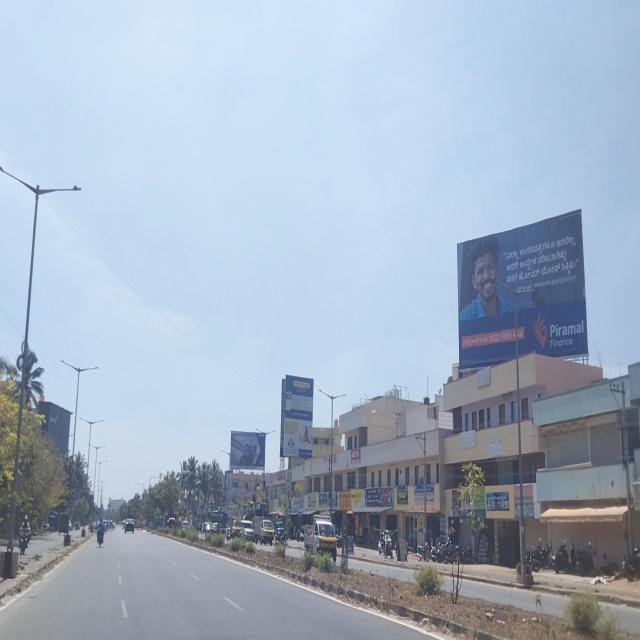bien_cam: (207, 489, 217, 505)
